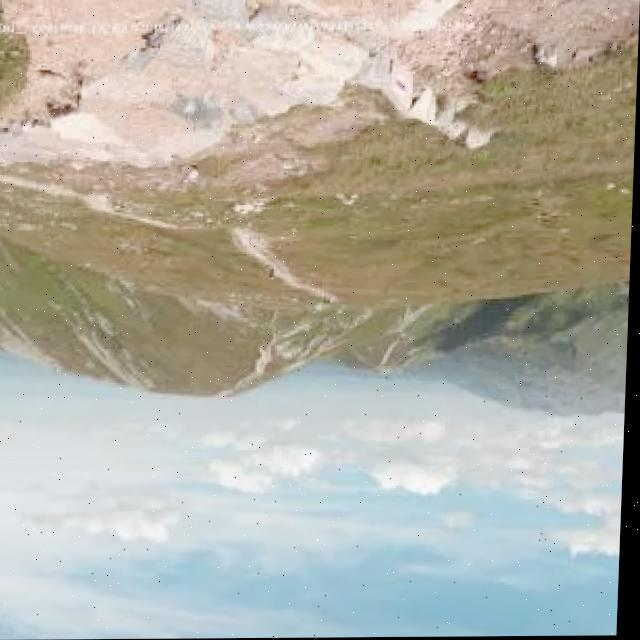Kopa Kondracka: (323, 338, 441, 413)
Malolaczniak: (92, 340, 351, 460)
